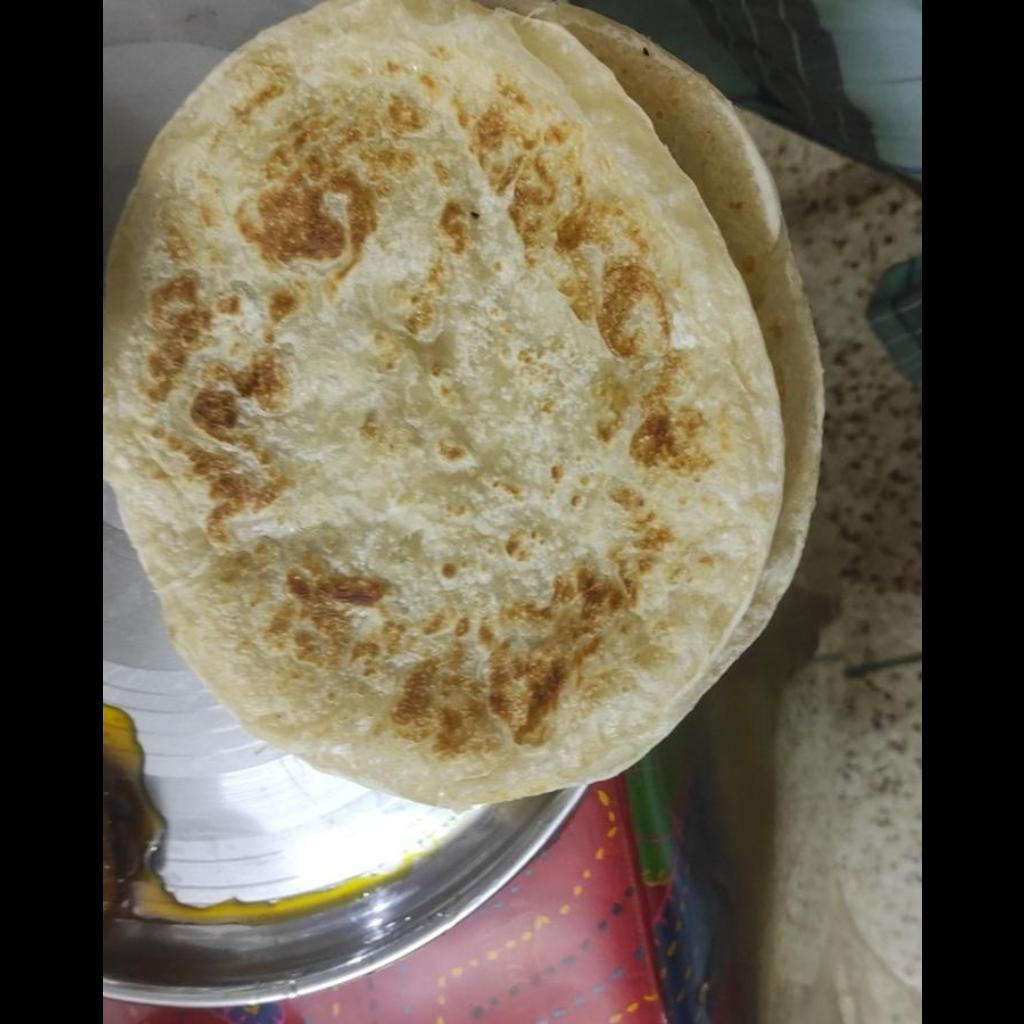ruti: (108, 1, 826, 814)
